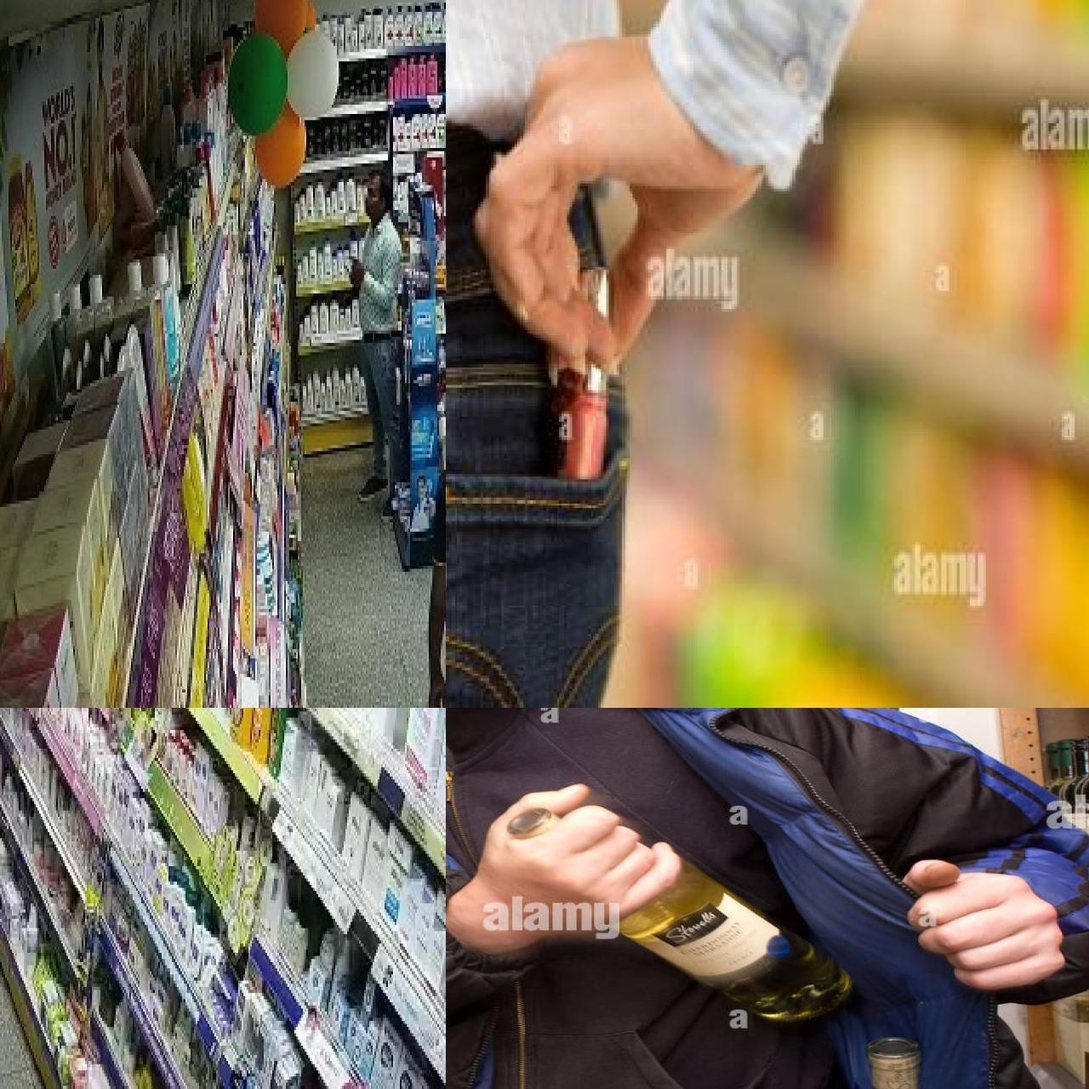shoplifting: (448, 1, 1021, 699), (447, 712, 1062, 1089)
